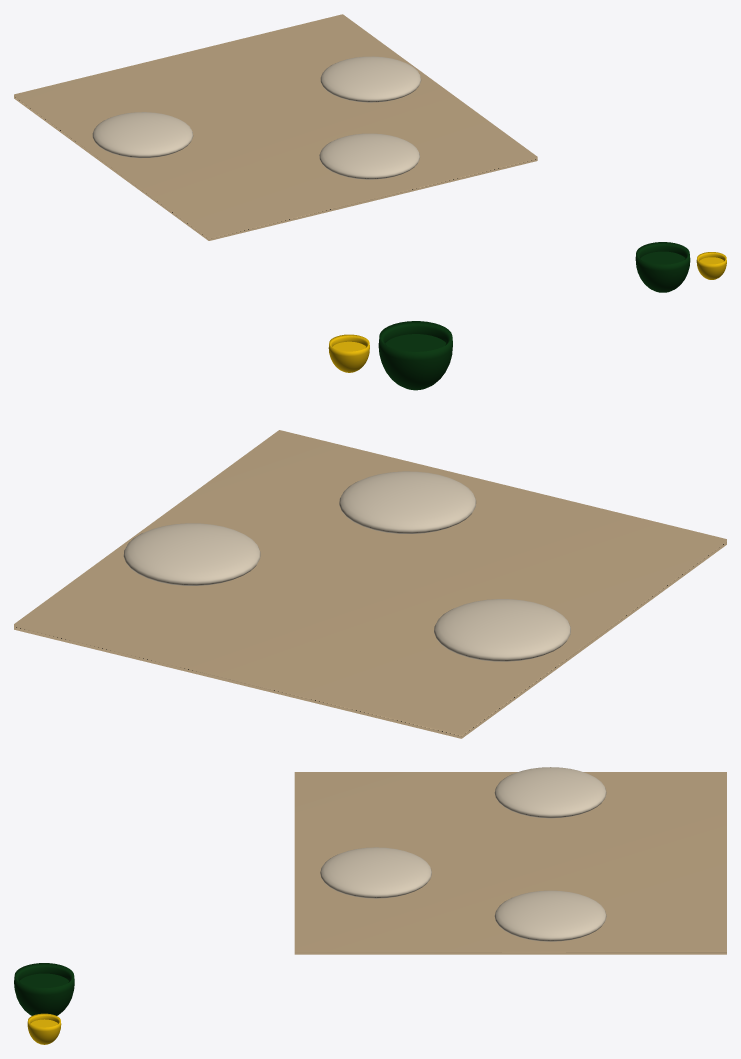
The model's file is misc.fbx.
3 renders of one model, top to bottom at view 1: azimuth 30°, elevation 25°; view 2: azimuth 150°, elevation 25°; view 3: azimuth 270°, elevation 25°, orthographic. The views are drawn at different scales.
Parts seen in each view (by area): view 1: Rug, Coushins, GreenBowl, YellowBowl; view 2: Rug, Coushins, GreenBowl, YellowBowl; view 3: Rug, Coushins, GreenBowl, YellowBowl.
Part boxes in pixels (left/top/right/bottom): Rug: left=14, top=14, right=537, bottom=240; Coushins: left=92, top=56, right=421, bottom=179; GreenBowl: left=635, top=242, right=690, bottom=292; YellowBowl: left=696, top=252, right=726, bottom=279; Rug: left=14, top=430, right=726, bottom=738; Coushins: left=123, top=471, right=570, bottom=661; GreenBowl: left=378, top=321, right=452, bottom=390; YellowBowl: left=328, top=334, right=369, bottom=372; Rug: left=294, top=772, right=726, bottom=954; Coushins: left=320, top=767, right=606, bottom=941; GreenBowl: left=14, top=963, right=74, bottom=1015; YellowBowl: left=27, top=1013, right=61, bottom=1044.
Bounding box in the file's own units: 487 × 79.35 × 673.
